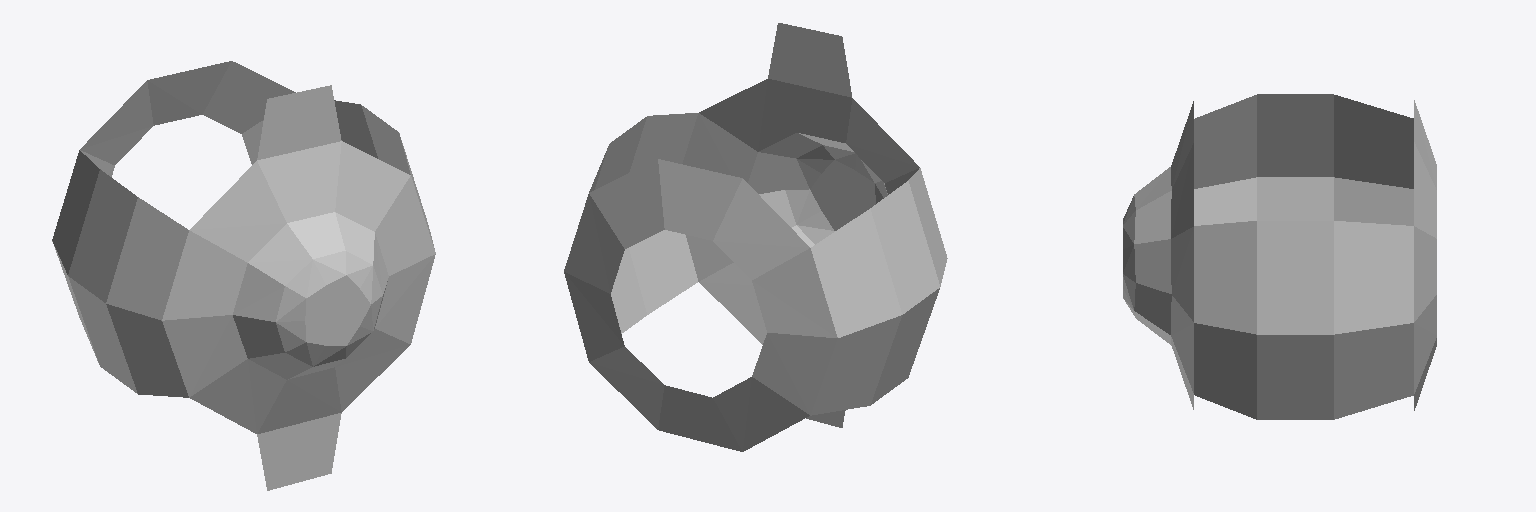
Rendered from lampB.obj.
3 views of the same model, side by side, from view 1: azimuth 30°, elevation 25°; view 2: azimuth 150°, elevation 25°; view 3: azimuth 270°, elevation 25° (orthographic).
Visible parts, largest first — view 1: Plane; view 2: Plane; view 3: Plane.
Boxes of the visible parts, x1,y1,x2,y2 form: Plane: [52, 61, 435, 490]; Plane: [564, 23, 947, 451]; Plane: [1123, 94, 1436, 419].
Size of the model in its own units: 4.74 by 5.51 by 4.01.